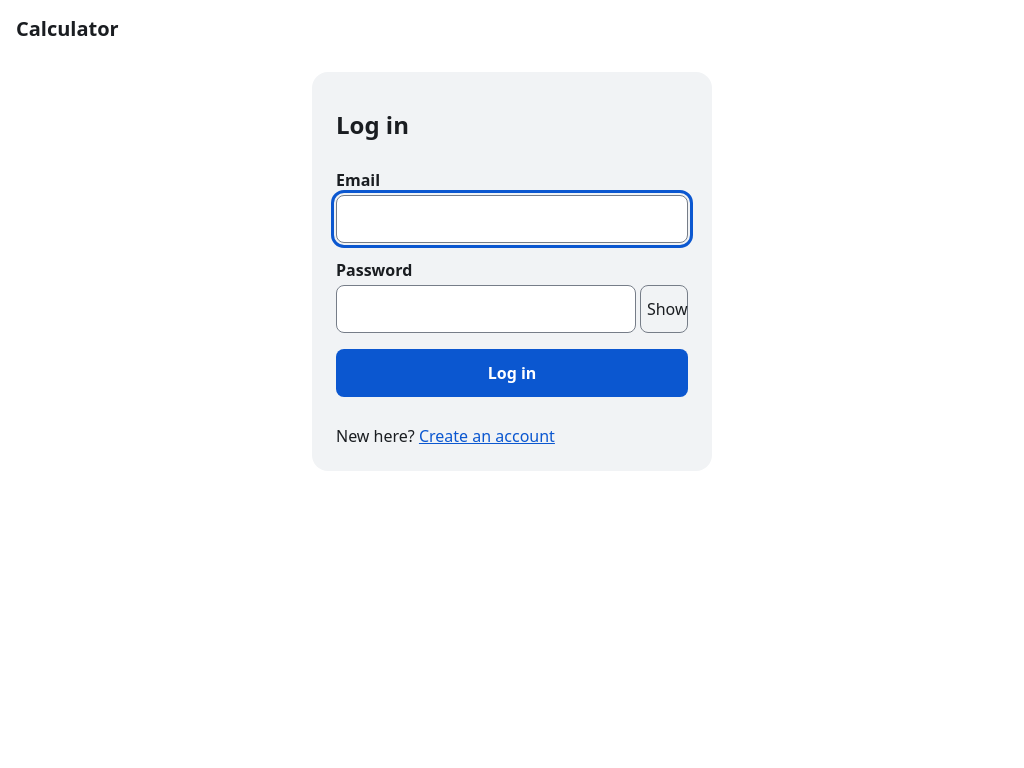
Test: #4 AC2: switch the active profile at any time › switching clears the display and shows that profile's own Ans (P4)
Expected: the heading "Log in" is shown, [336,108,409,141]
In the field labelled "Email": (512, 219) [336,195,688,243], type "ana@example.com"
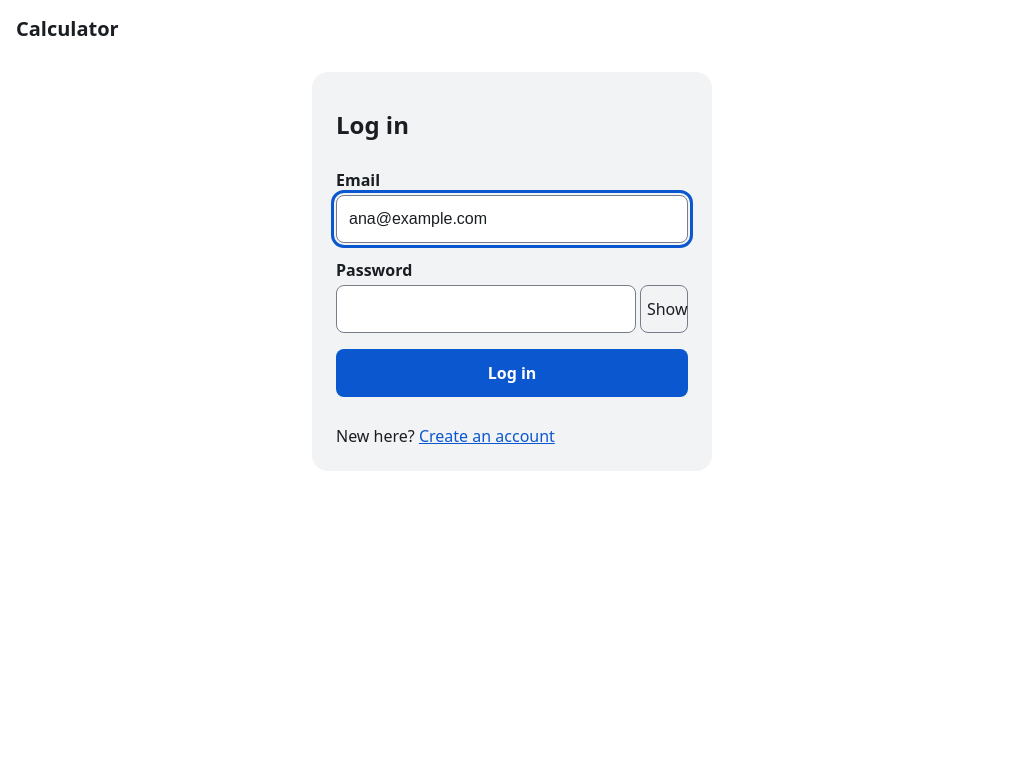
In the password field labelled "Password": (486, 309) [336,285,636,333], type "correct horse battery"
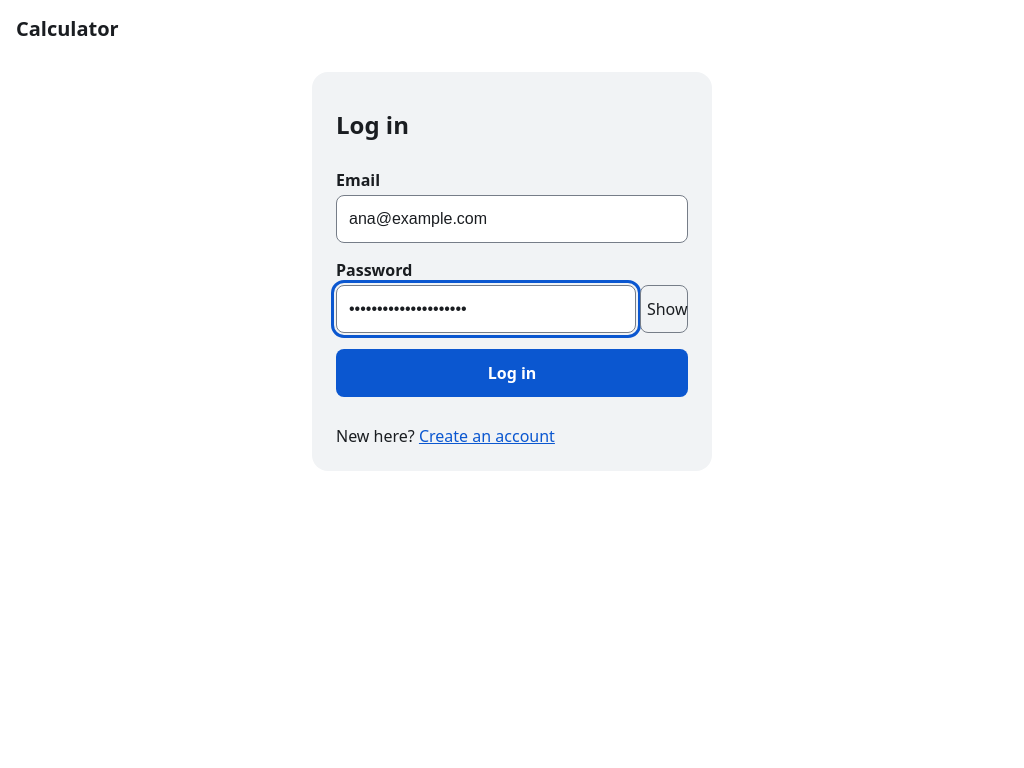
Click the button "Log in": click(512, 373) [336,349,688,397]
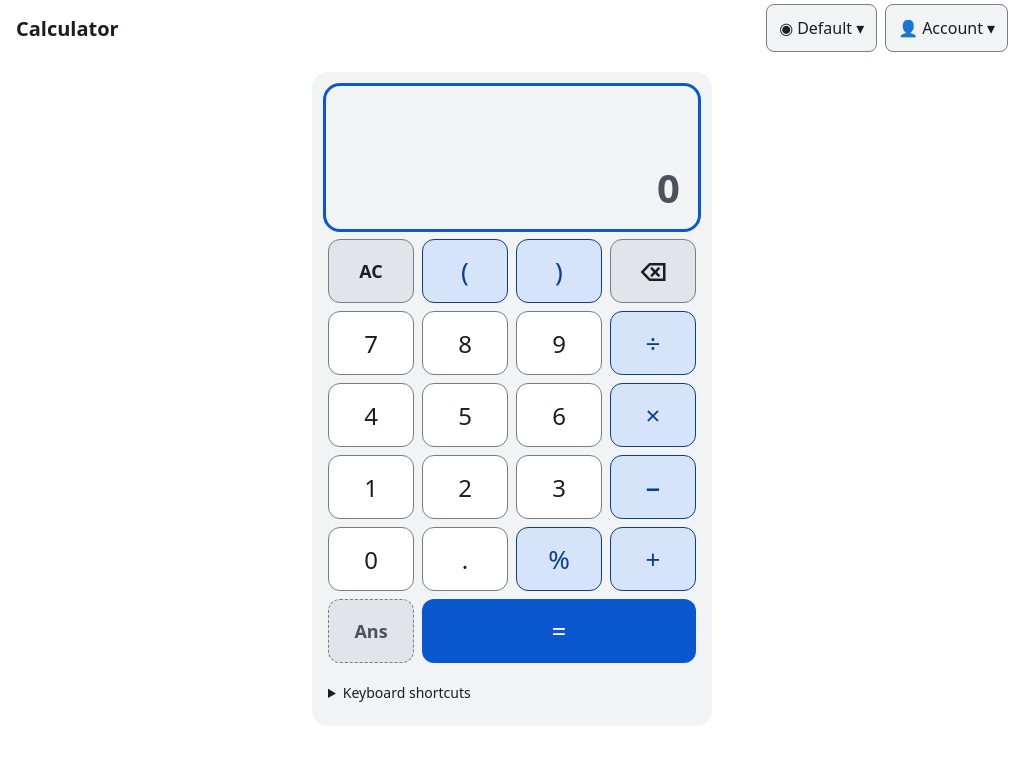
Expected: the element named "Keypad" is shown, [328,239,696,663]
Click the button "7": click(371, 343) [328,311,414,375]
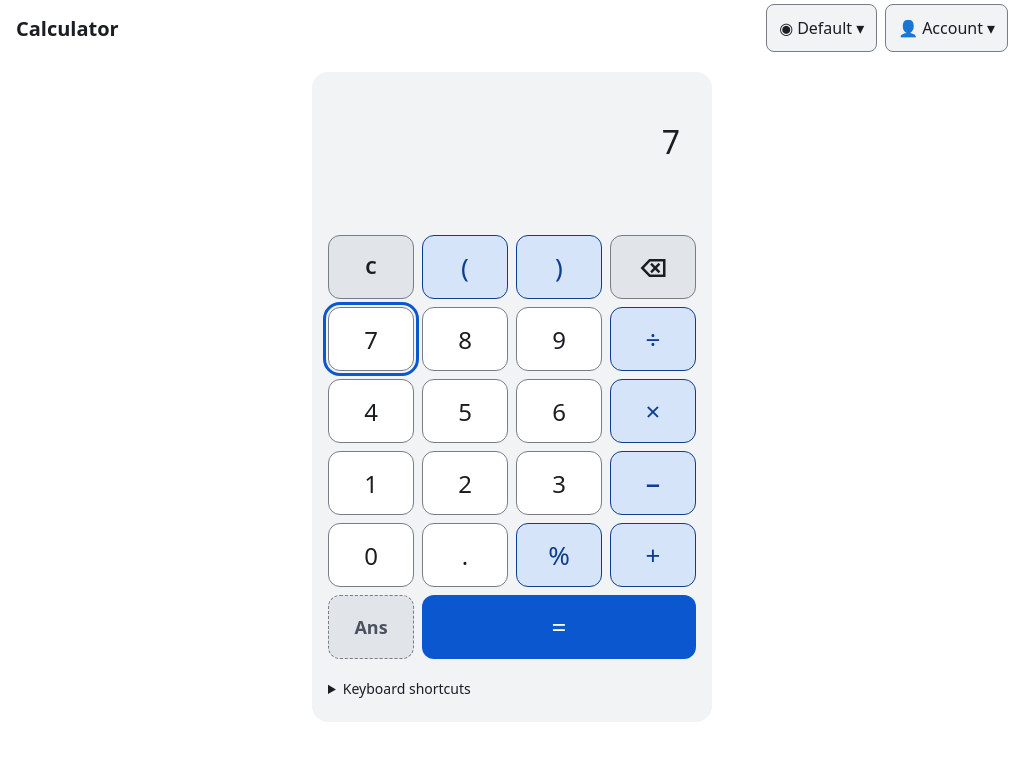
Click the button with aria-label ", switch profile": click(822, 28) [766,4,877,52]
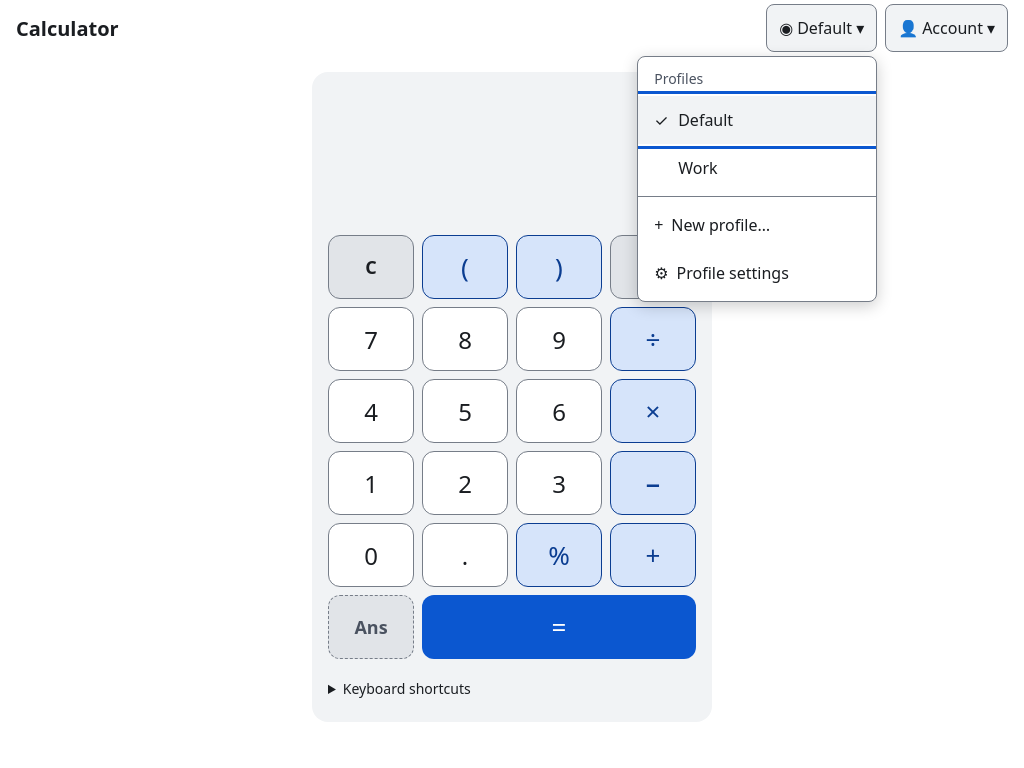
Click the menu item "Work": click(698, 168) [678,157,718,179]
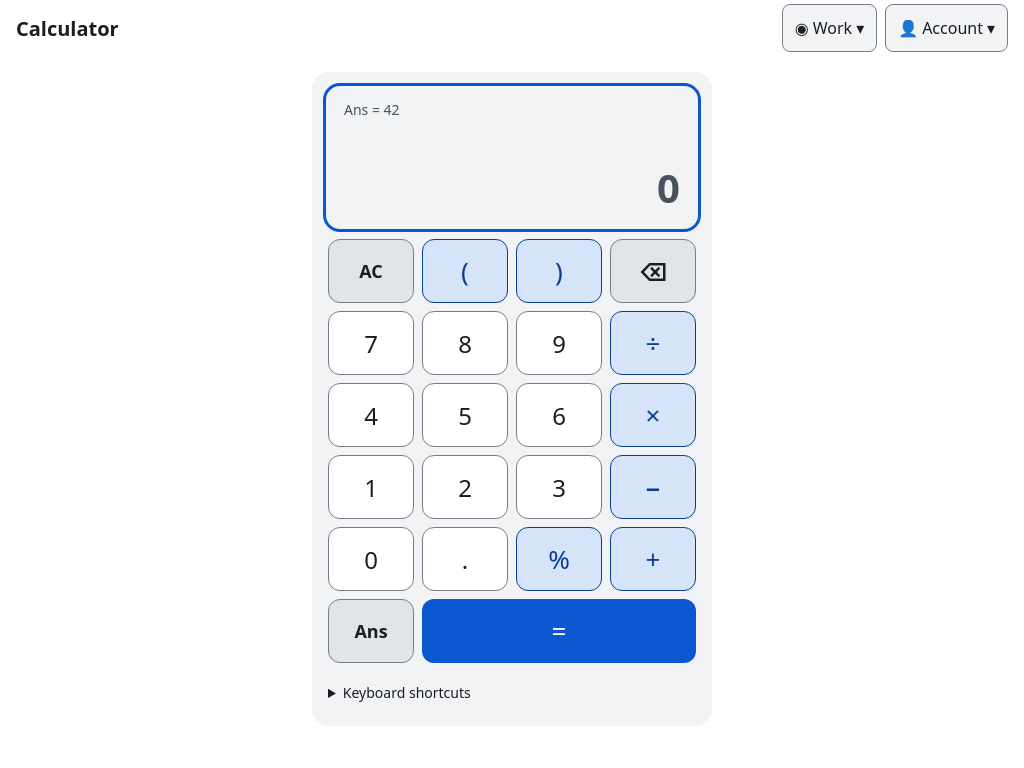
Expected: the button with aria-label "Work, switch profile" is shown, [782,4,877,52]
Expected: the text with test id "ans-row" reads "Ans = 42", [344,100,400,119]
